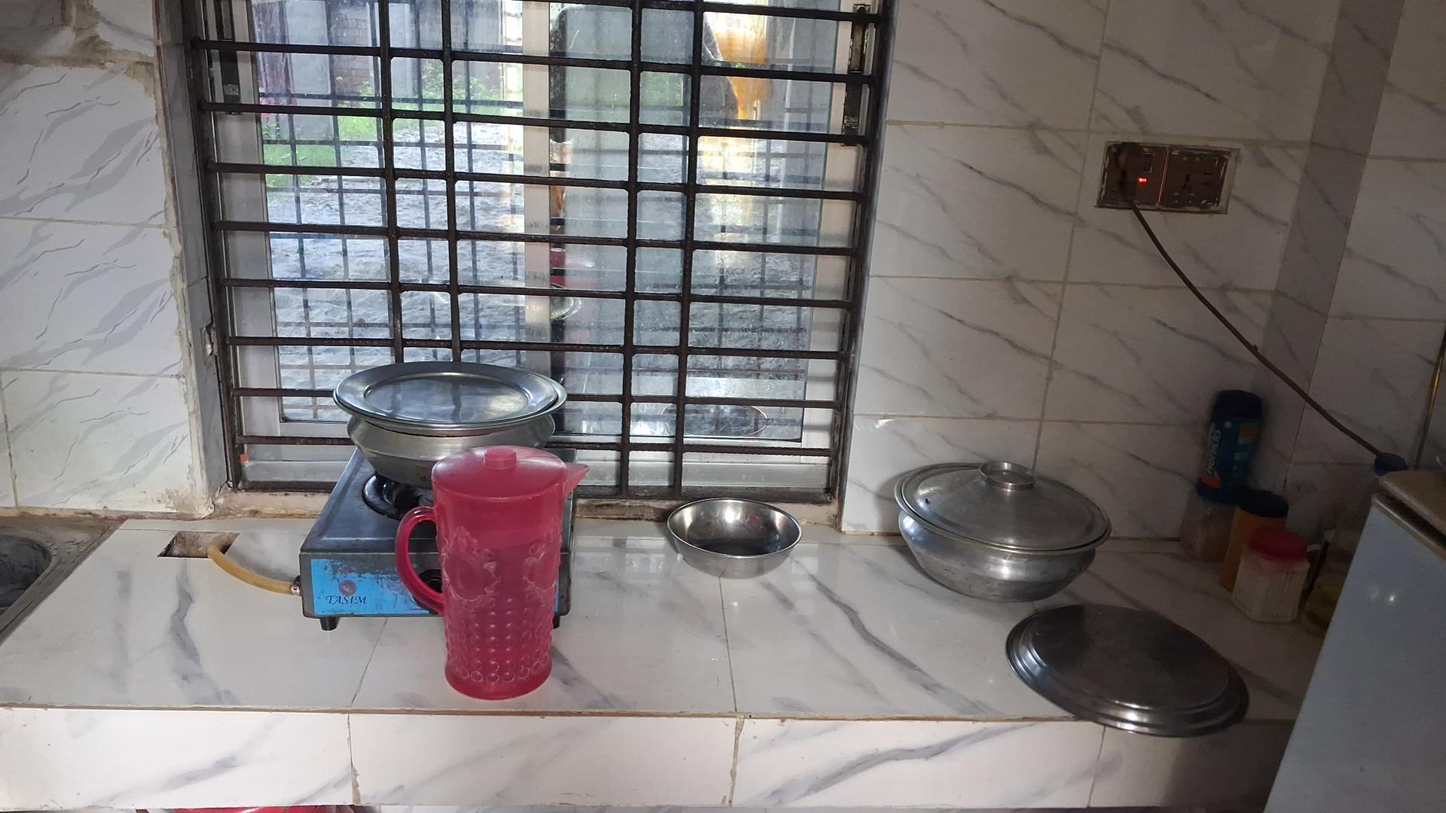Bowl: (666, 496, 802, 580)
Jar: (1225, 529, 1313, 615), (1207, 389, 1266, 490), (1186, 477, 1237, 551)
Jug: (396, 440, 581, 699)
Plate: (1008, 603, 1245, 734)
Pot: (894, 460, 1112, 604), (330, 369, 568, 483)
